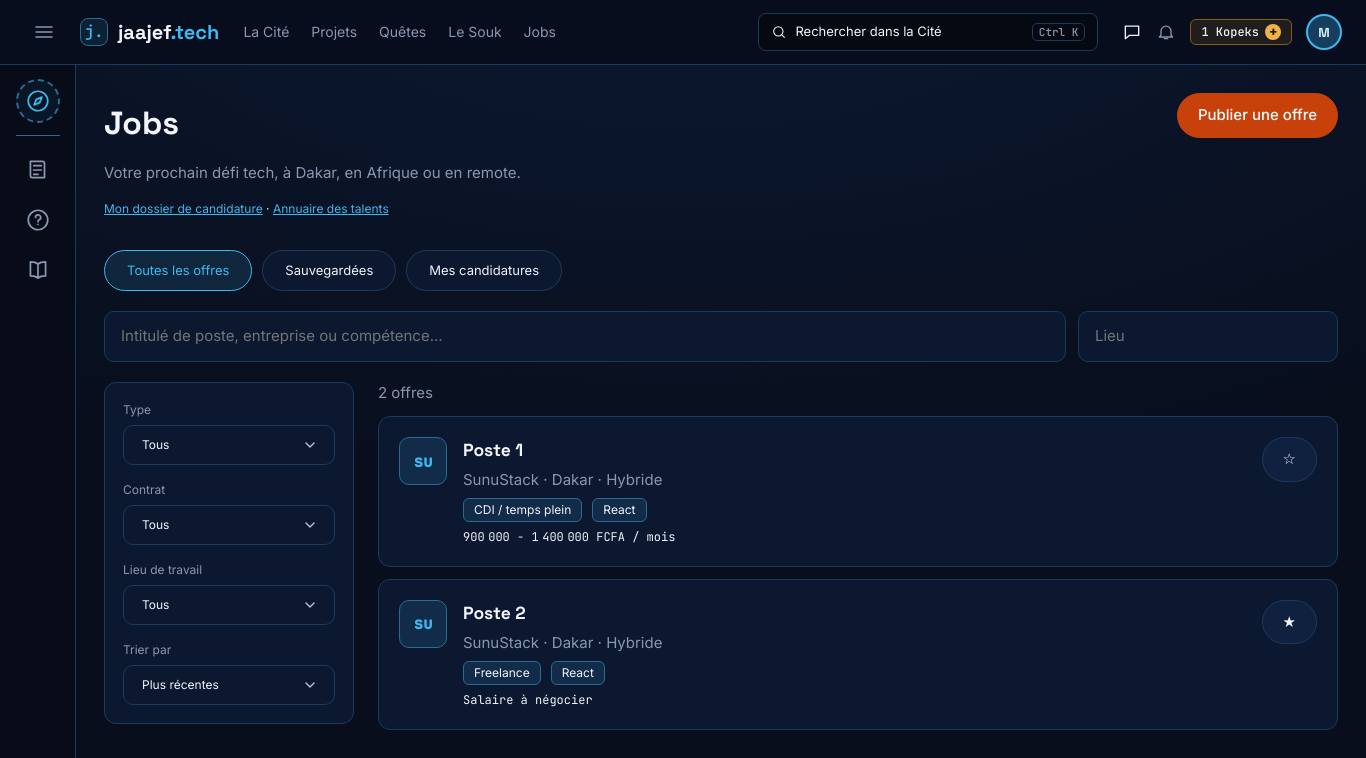
Test: Jobs page › shows a plain message when the save limit is reached
Step 1. Click the button named "Sauvegarder : Poste 1" → (1289, 459), box [1262,437,1317,482]
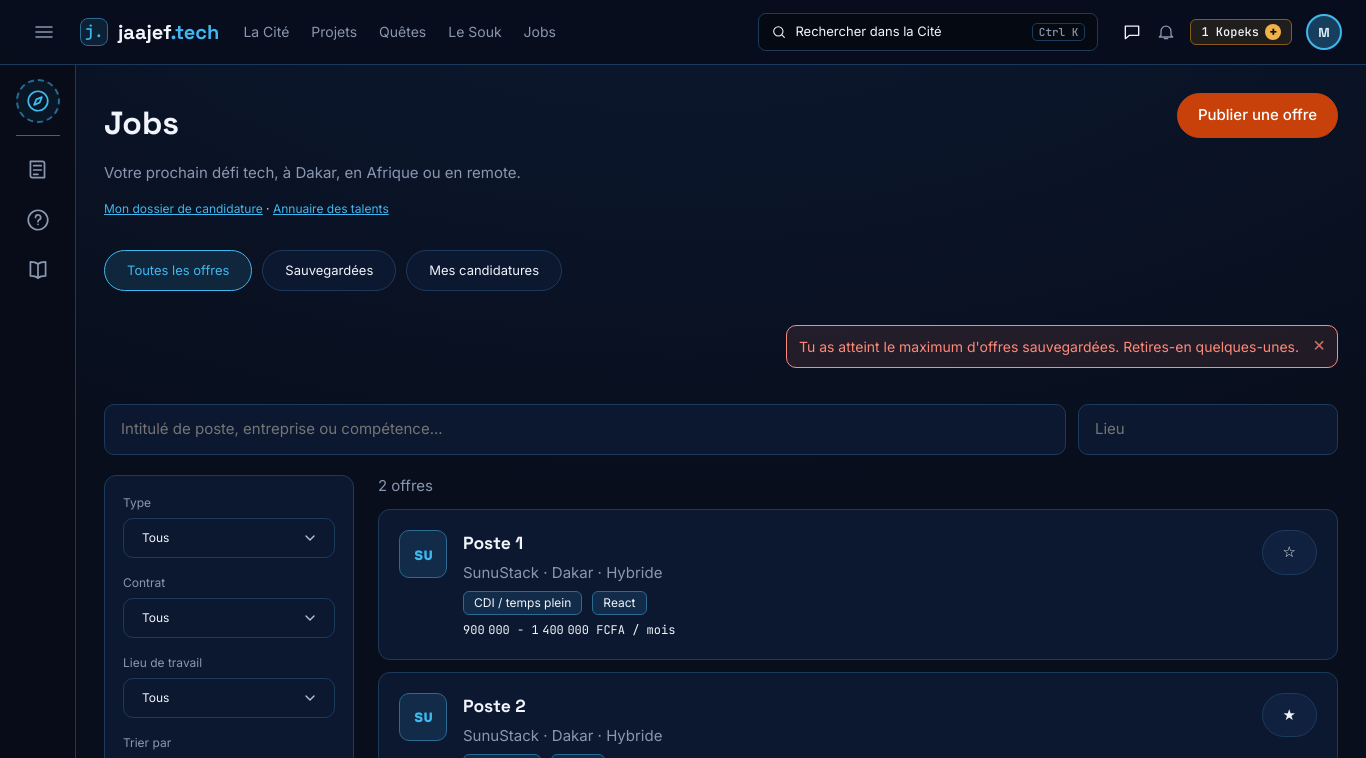
Check: the message shows "maximum d'offres sauvegardées", box [799,338,1299,355]
